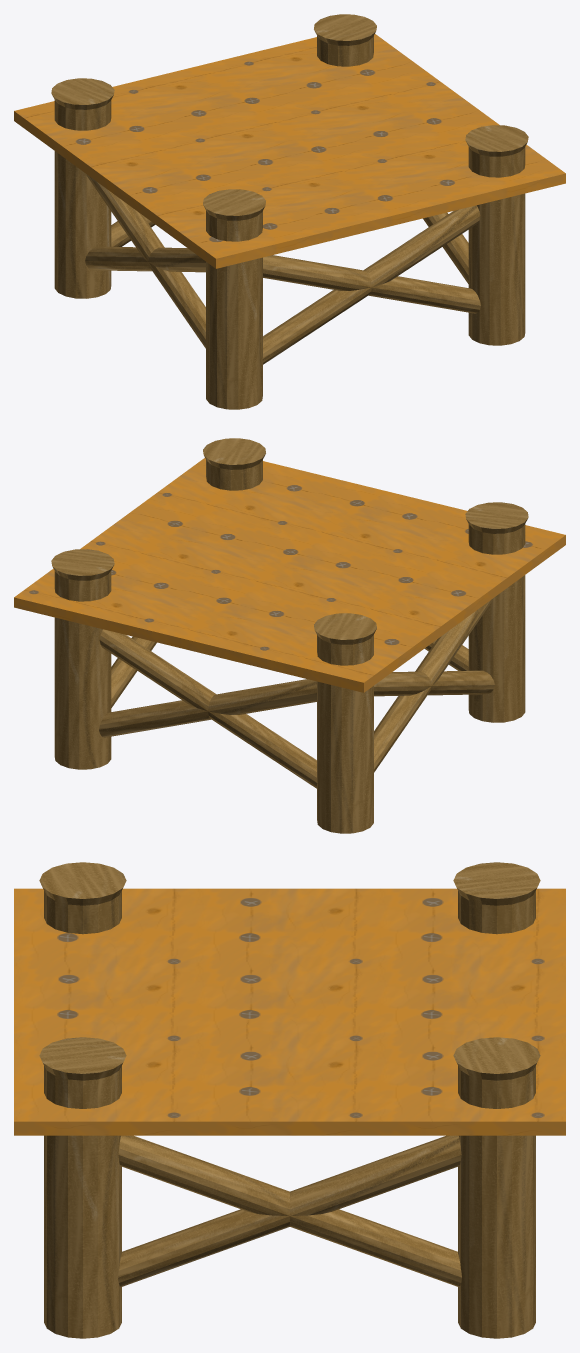
File: GroundPlatformTop.fbx
3 renders of one model, top to bottom at view 1: azimuth 30°, elevation 25°; view 2: azimuth 150°, elevation 25°; view 3: azimuth 270°, elevation 25°, orthographic. The views are drawn at different scales.
Parts seen in each view (by area): view 1: GroundPlatformTop; view 2: GroundPlatformTop; view 3: GroundPlatformTop.
Boxes of the visible parts, <box> form: GroundPlatformTop: <box>14,14,565,409</box>; GroundPlatformTop: <box>14,438,565,833</box>; GroundPlatformTop: <box>14,862,565,1338</box>.
Size of the model in its own units: 160 by 85.27 by 160.
